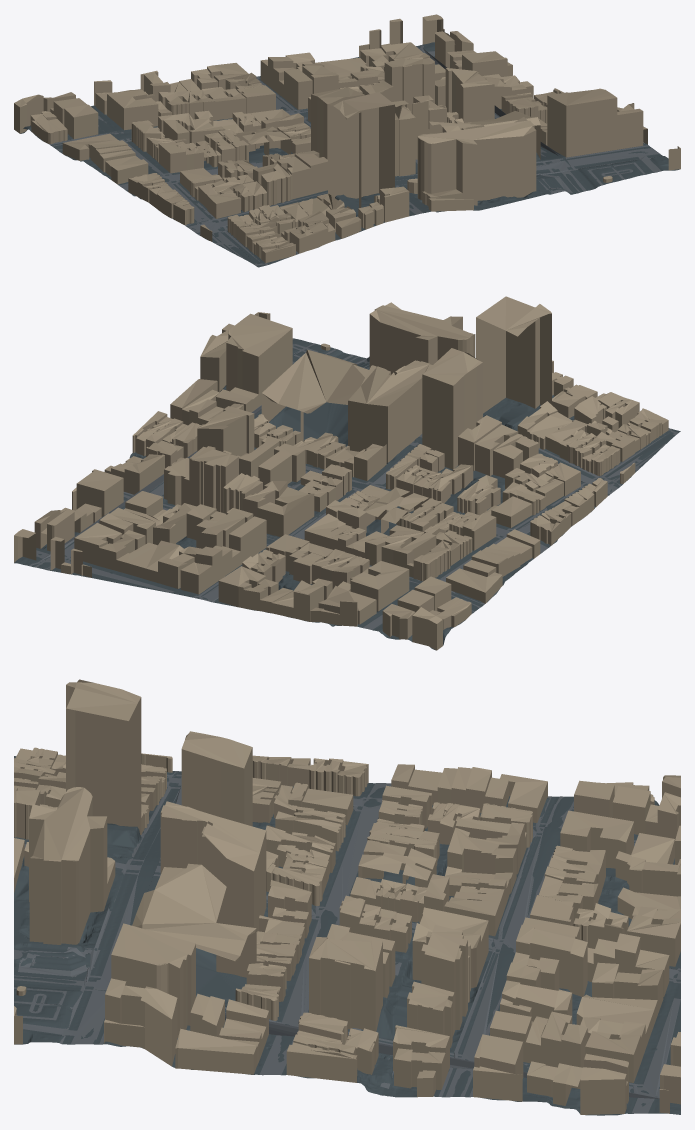
File: epsg26910-1436-10892.lod0.glb
The picture shows the model from 3 angles, top to bottom: view 1: azimuth 30°, elevation 25°; view 2: azimuth 150°, elevation 25°; view 3: azimuth 270°, elevation 25°; orthographic projection. The views are drawn at different scales.
Parts seen in each view (by area): view 1: epsg26910-1436-10892-lod0; view 2: epsg26910-1436-10892-lod0; view 3: epsg26910-1436-10892-lod0.
Part boxes in pixels (x1=…): epsg26910-1436-10892-lod0: x1=14, y1=14, x2=680, y2=267; epsg26910-1436-10892-lod0: x1=14, y1=296, x2=680, y2=650; epsg26910-1436-10892-lod0: x1=14, y1=679, x2=680, y2=1115.
Bounding box in the file's own units: 384 × 146 × 384.
